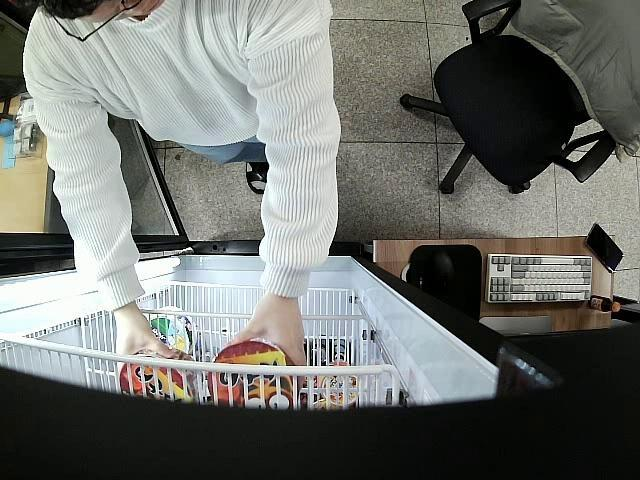05_nuguri_L: (208, 340, 298, 412), (118, 348, 196, 402)
